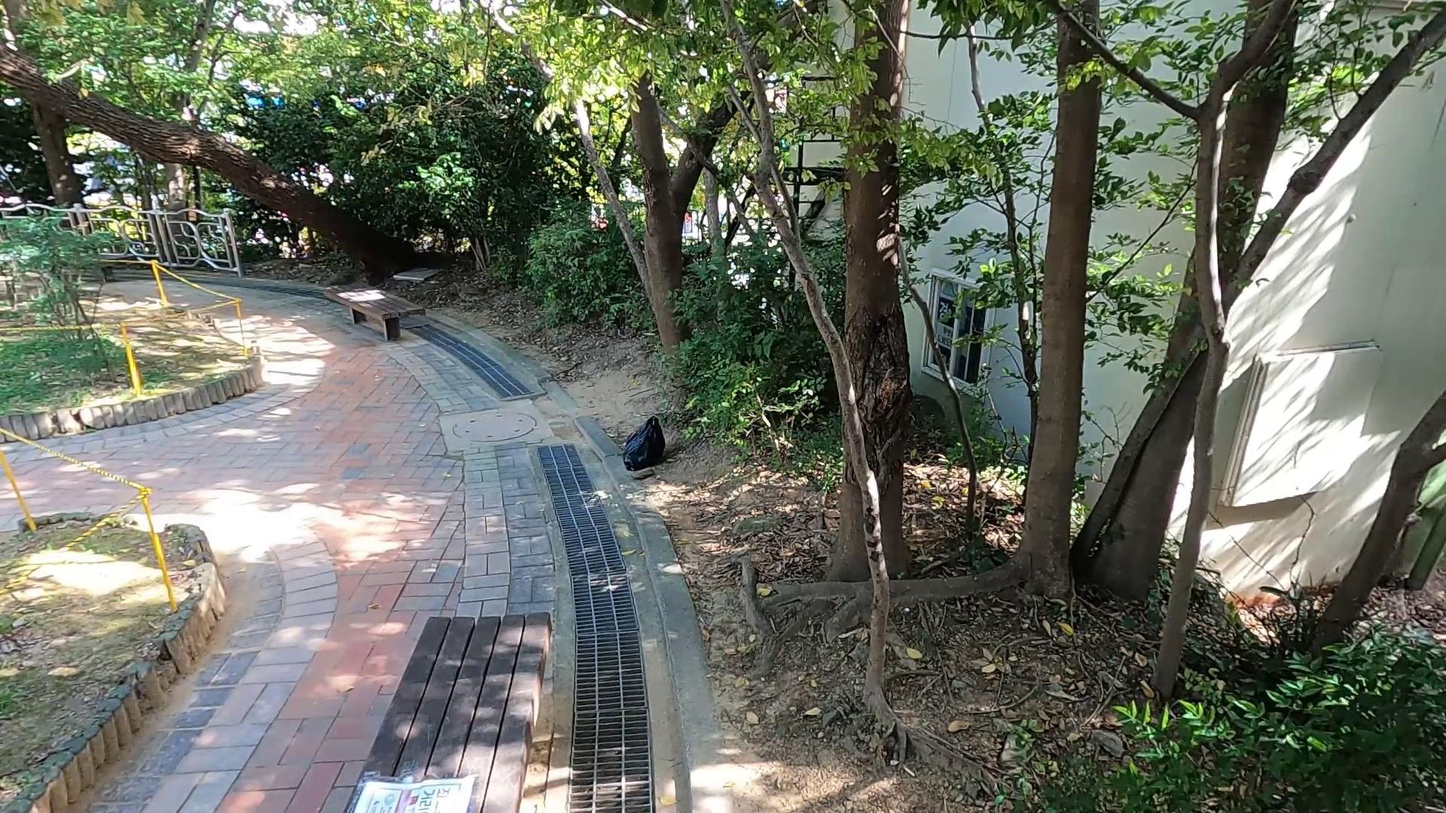trash: (623, 415, 667, 473)
